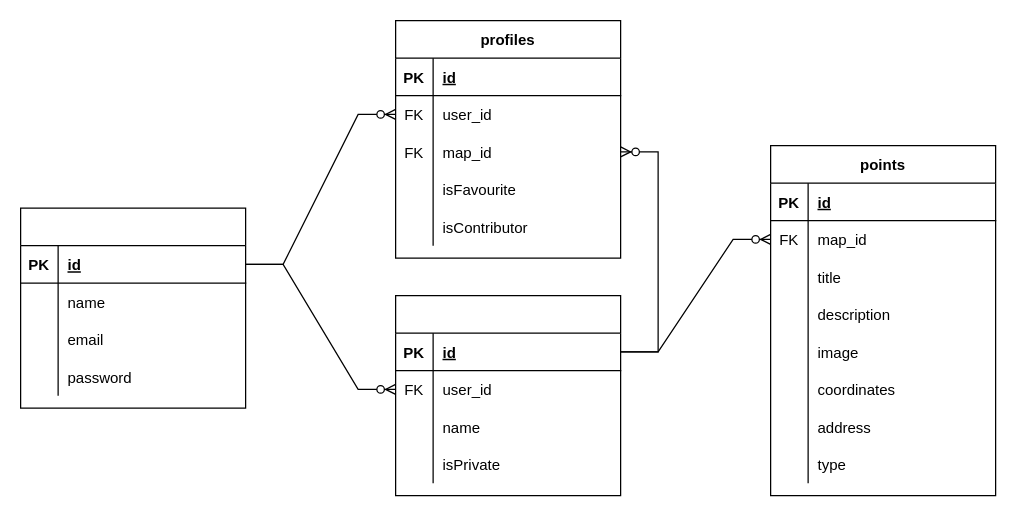
The diagram is 1016 pixels wide and 516 high, and some of its shapes have lost their labels. The shapes that lost their labels are listed below. From the top down, each one's box as (x1, y1, x2, y2) in pixels, then its label:
(19, 207, 246, 408): users
(394, 294, 621, 496): maps
